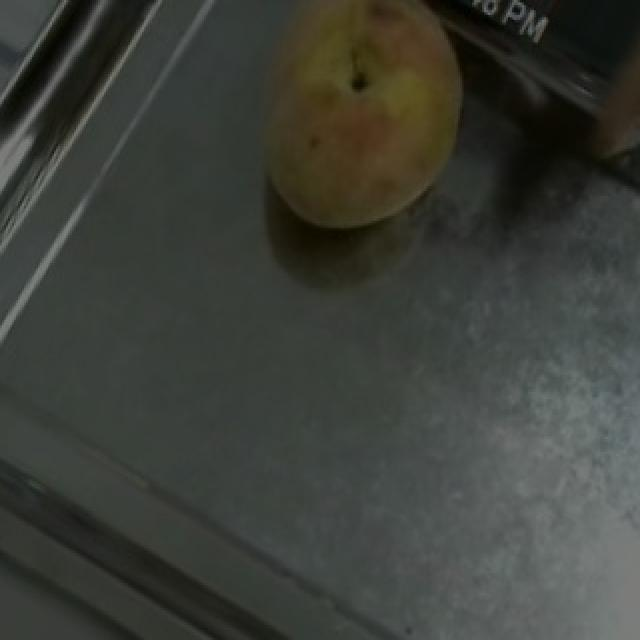Fruit: (206, 0, 492, 263)
